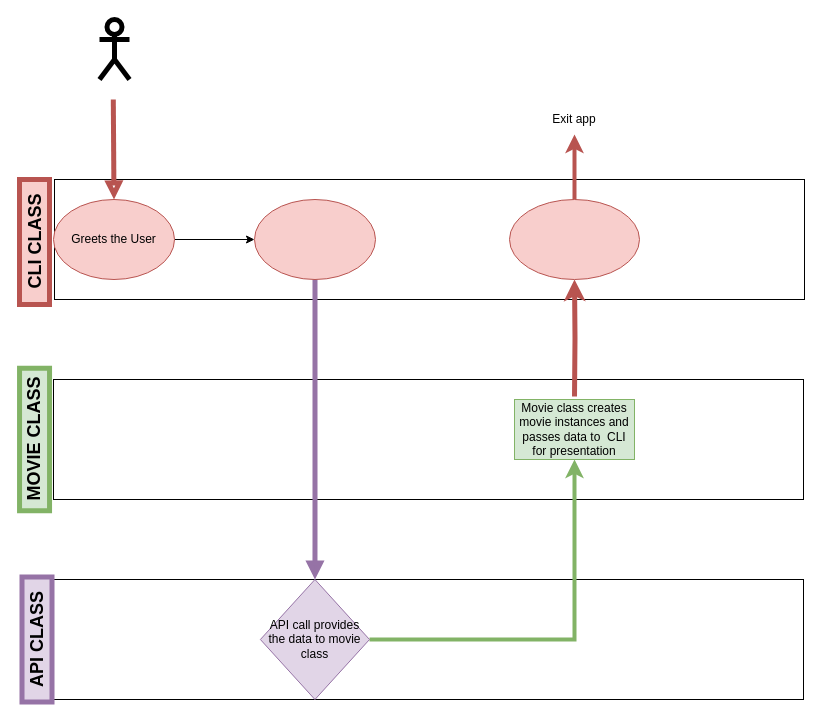
Some shapes in this 822 by 722 pixel diagram are drawn without their labels. Here are the shapes that lost their labels. From the top down, the centre of each, then its label:
At (114,49): "USER".
At (315,239): "Asks user for input".
At (574,239): "Displays trending movies to the user".
